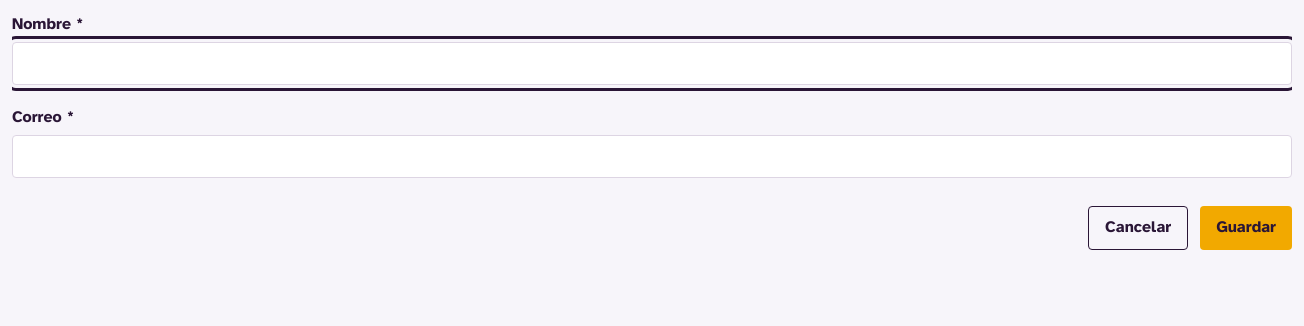
EntityForm › valida campos requeridos, asocia el error y enfoca el primer campo inválido
Click the button "Guardar" at (1246, 228), box 1200,206 -> 1292,250
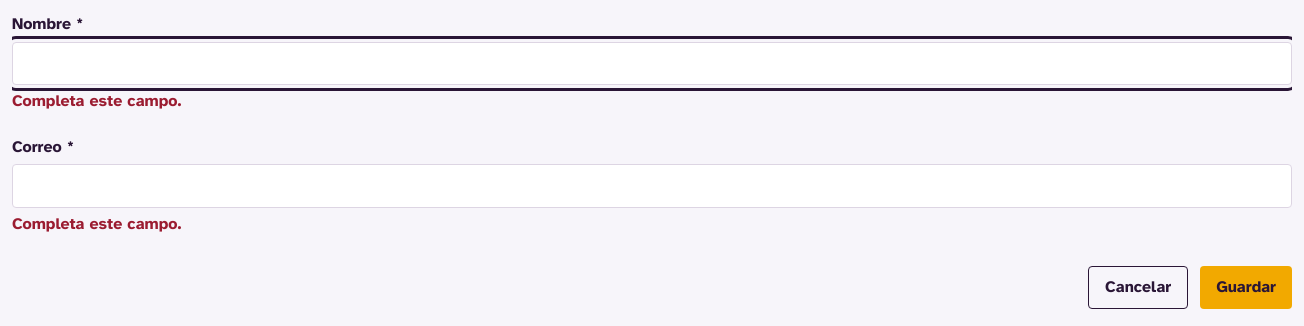
Check: the message with id "name-error" reads "Completa este campo.", box 12,91 -> 181,111
